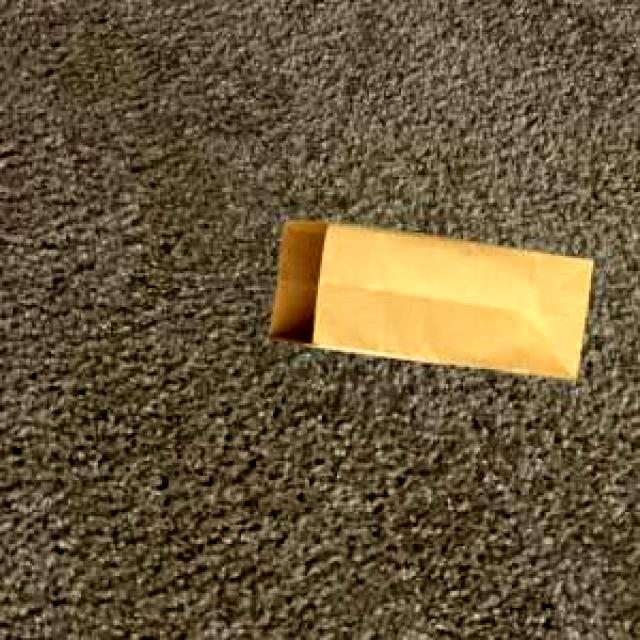Paper_Bag: (265, 218, 590, 376)
